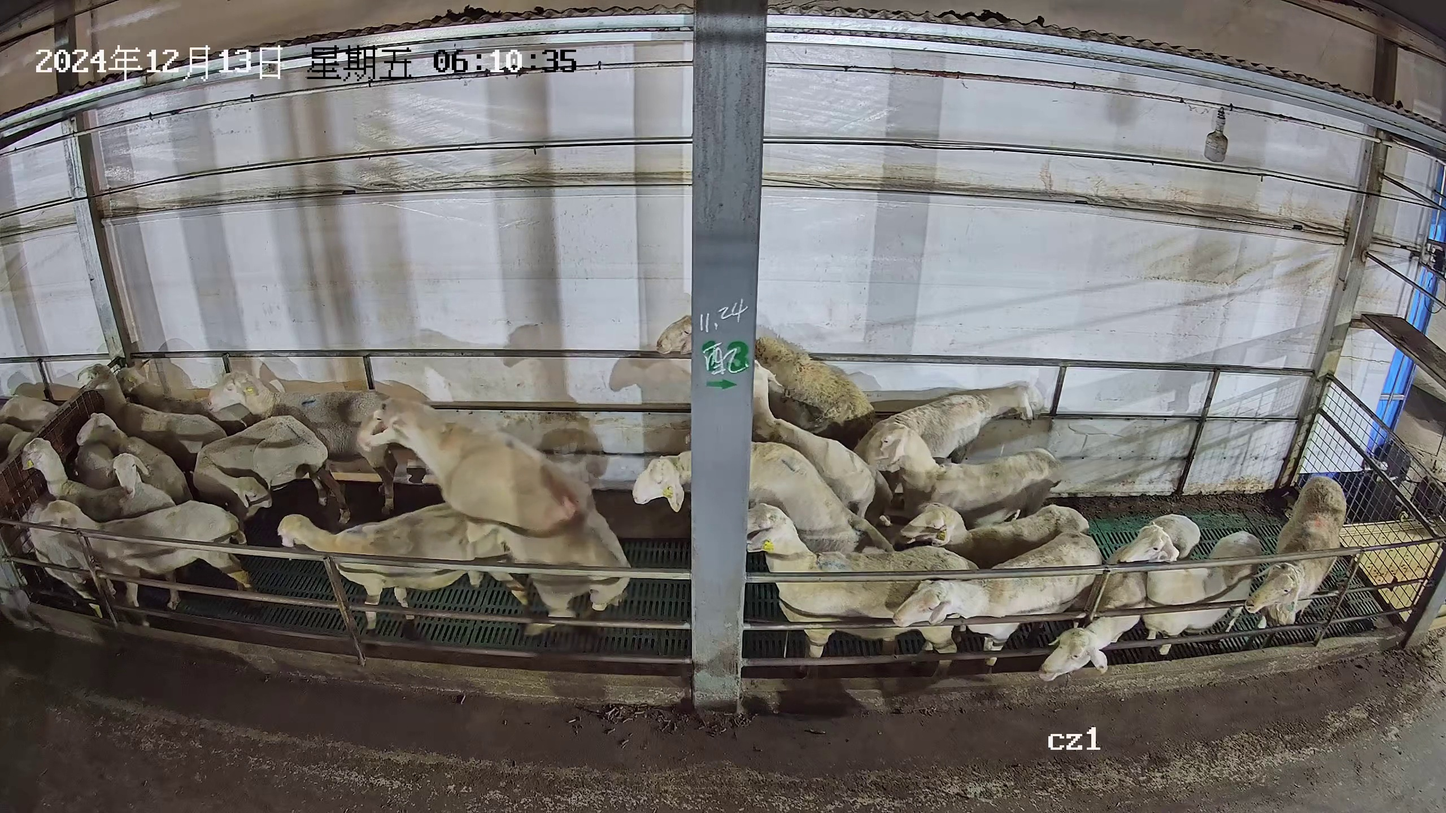Smounting: (269, 393, 632, 642)
mounted: (274, 499, 532, 639)
